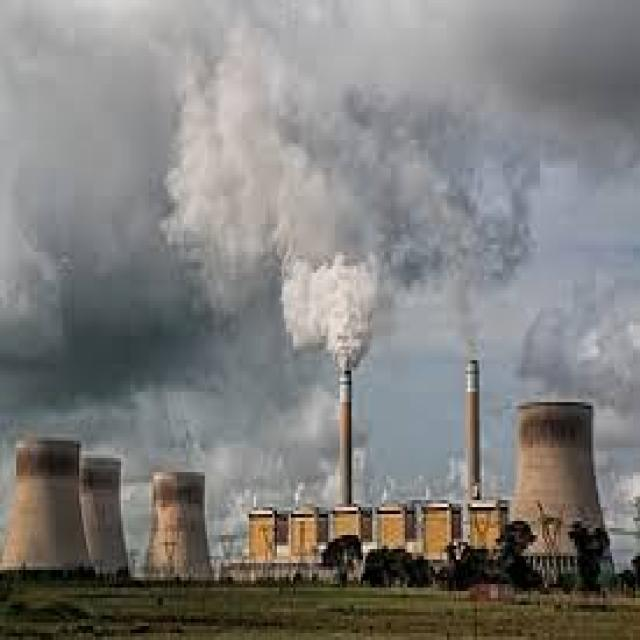smoke: (19, 27, 222, 290), (372, 22, 518, 251), (223, 131, 365, 351)
